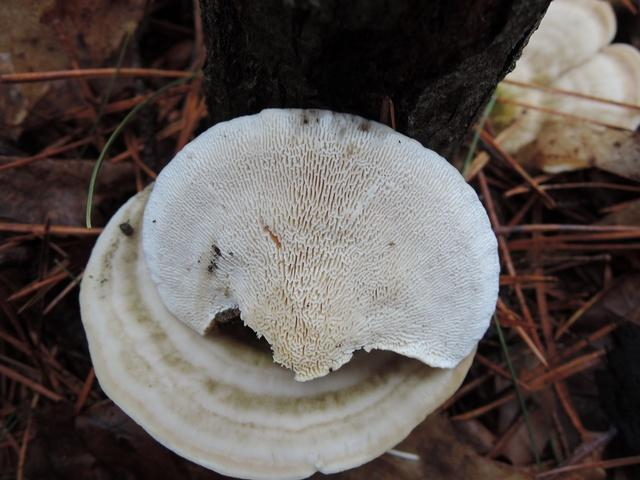Non-edible Mushroom: (77, 105, 501, 478)
